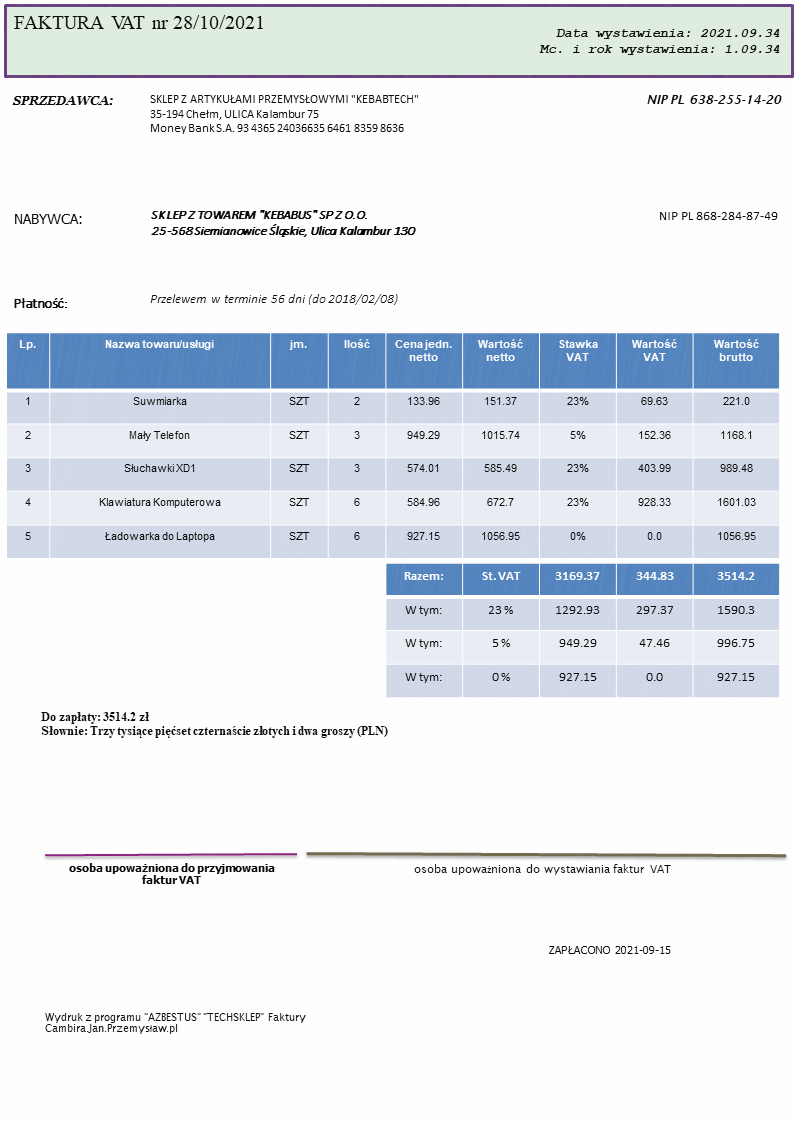Table: (5, 331, 781, 560), (384, 562, 781, 699)
TextBox: (146, 91, 421, 136), (38, 709, 389, 740), (148, 208, 417, 239), (536, 25, 782, 58), (42, 1009, 308, 1036), (66, 859, 278, 887), (11, 12, 266, 33), (148, 290, 399, 308), (411, 860, 672, 877), (644, 91, 783, 108), (545, 942, 671, 957), (657, 209, 779, 223), (10, 93, 115, 108), (11, 211, 83, 227), (11, 295, 70, 311)
